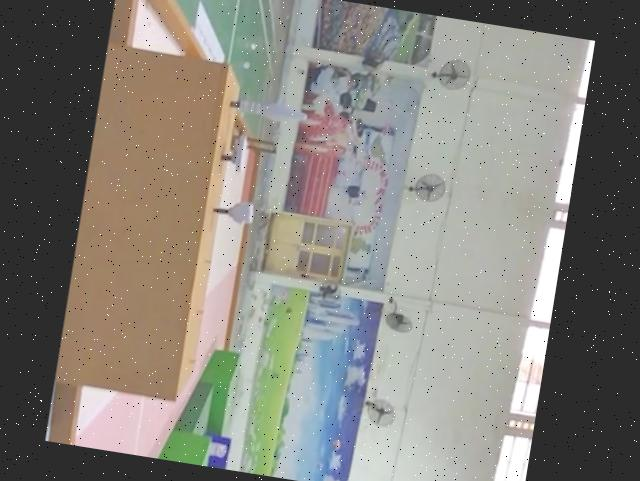Fist: (214, 194, 257, 226)
Hand: (221, 134, 253, 178)
Sph: (228, 92, 310, 126)
